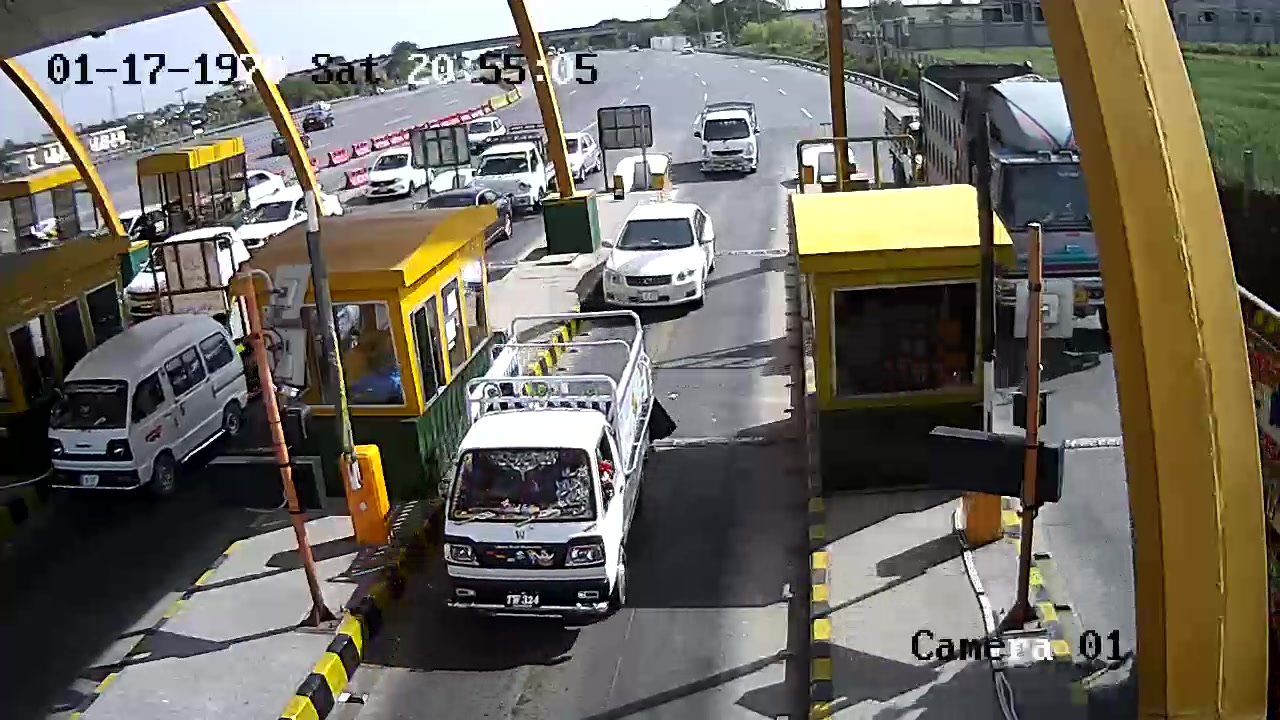F1: (451, 308, 667, 623)
